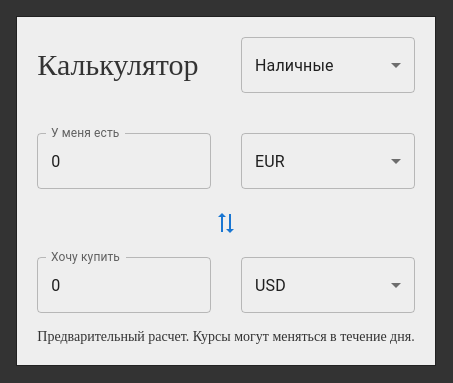
Scenario: Калькулятор › currency -> currency › есть 10 EUR, хочу ? (10.53) USD
The width and height of the screenshot is (453, 383).
Step 1. Type "10" into the field labelled "У меня есть" → [124, 161], box [37,133,211,189]
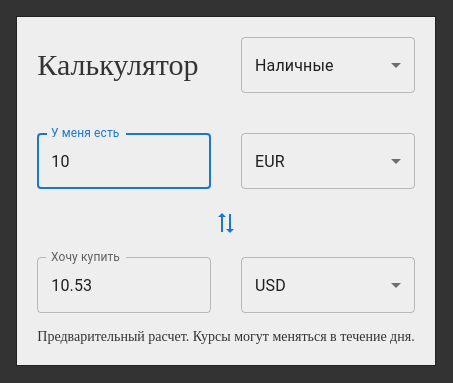
Expected: the field showing "10.53" is shown, [37,257,211,313]
